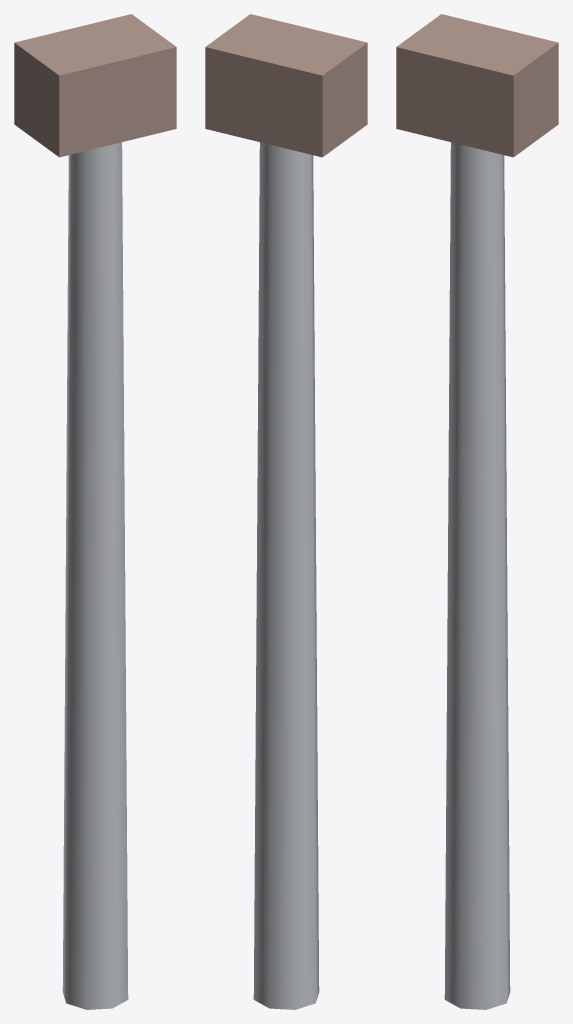
File: prop.glb
3 renders of one model, left to right at view 1: azimuth 30°, elevation 25°; view 2: azimuth 150°, elevation 25°; view 3: azimuth 330°, elevation 25°, orthographic.
Visible parts, largest first — view 1: Metal, Cloth; view 2: Metal, Cloth; view 3: Metal, Cloth.
Boxes of the visible parts, x1,y1,x2,y2 form: Metal: [62, 142, 128, 1009]; Cloth: [14, 14, 176, 157]; Metal: [253, 142, 319, 1009]; Cloth: [205, 14, 367, 157]; Metal: [444, 142, 510, 1009]; Cloth: [396, 14, 558, 157].
Bounding box in the file's own units: 0.06 × 0.465 × 0.04.
